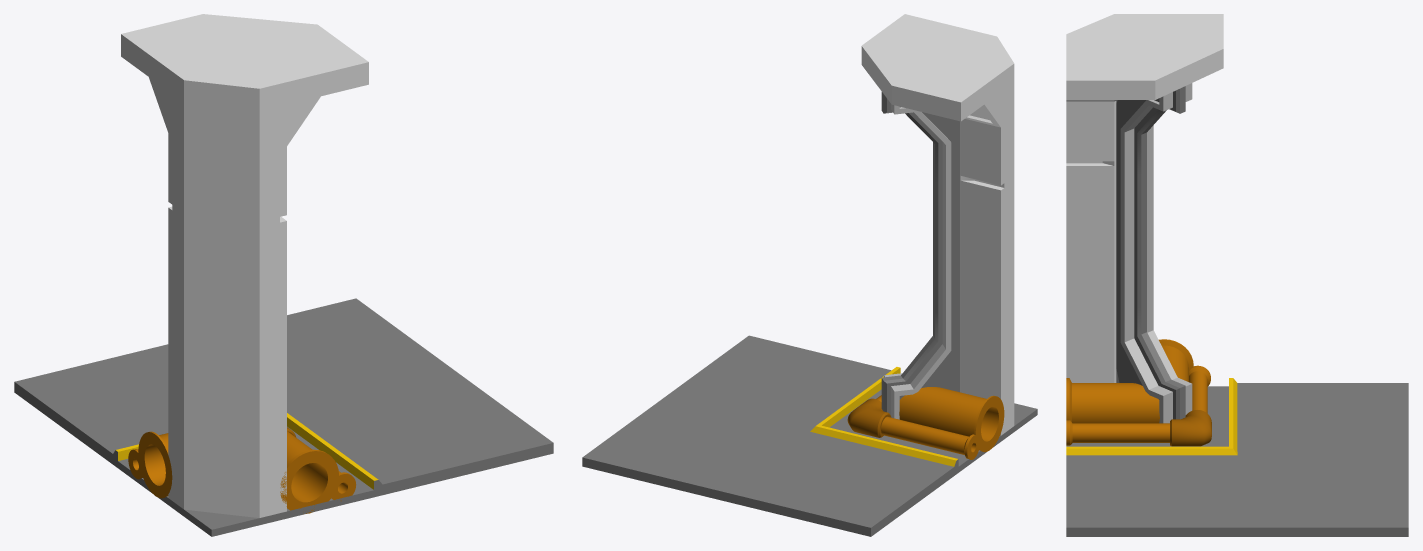
The model's file is Space_Ship_Set_1.fbx.
3 renders of one model, left to right at view 1: azimuth 30°, elevation 25°; view 2: azimuth 150°, elevation 25°; view 3: azimuth 270°, elevation 25°, orthographic. The views are drawn at different scales.
Visible parts, largest first — view 1: Space_Ship_Set_1_50mm_1; view 2: Space_Ship_Set_1_50mm_1; view 3: Space_Ship_Set_1_50mm_1.
Part boxes in pixels (x1,y1,x2,y2): Space_Ship_Set_1_50mm_1: (14, 14, 553, 536); Space_Ship_Set_1_50mm_1: (582, 14, 1037, 536); Space_Ship_Set_1_50mm_1: (1066, 14, 1408, 536).
Size of what is drawn, in the model's own units: 0.03 by 0.0366 by 0.03.
1 material, 1 textured.
